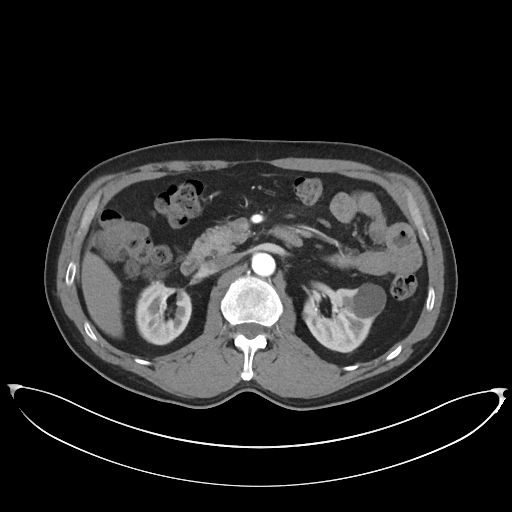Lesion: (349, 279, 388, 320)
